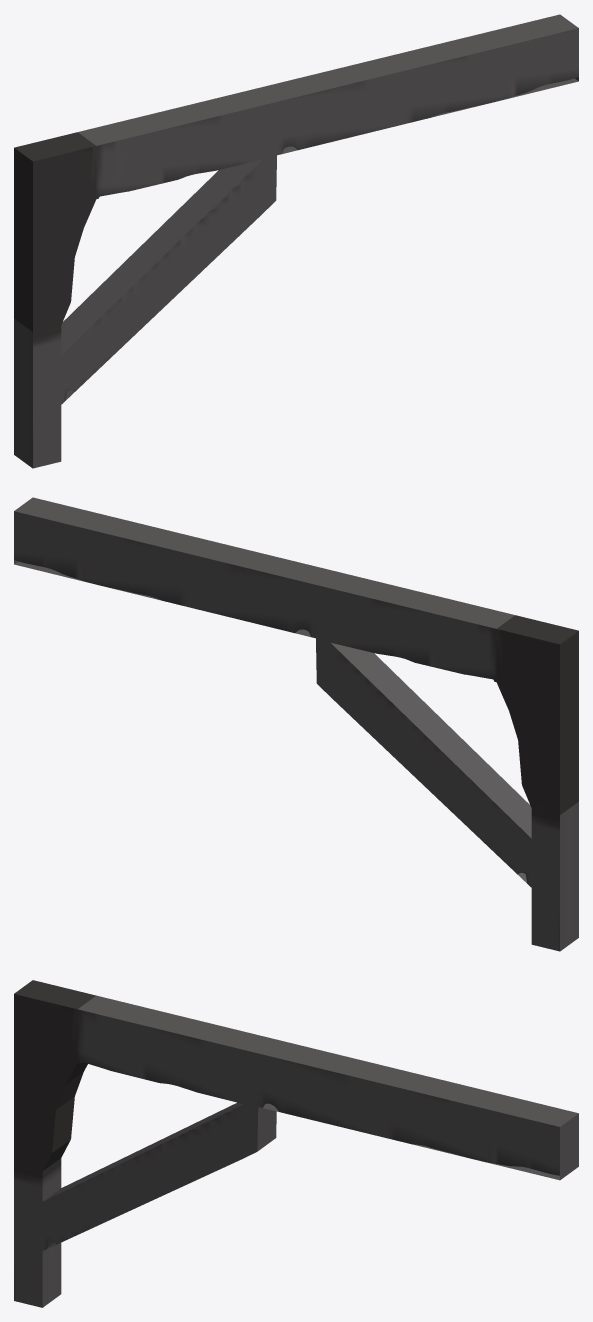
The model's file is PoleAttachmentLarge.fbx.
3 views of the same model, one above another, from view 1: azimuth 30°, elevation 25°; view 2: azimuth 150°, elevation 25°; view 3: azimuth 330°, elevation 25° (orthographic).
Visible parts, largest first — view 1: PoleAttachmentLarge; view 2: PoleAttachmentLarge; view 3: PoleAttachmentLarge.
Boxes of the visible parts, box(x1,y1,x2,y2) form: PoleAttachmentLarge: box(14, 14, 578, 468); PoleAttachmentLarge: box(14, 497, 578, 951); PoleAttachmentLarge: box(14, 980, 578, 1307).
Bounding box in the file's own units: 251 × 135 × 15.
1 material, 1 textured.
